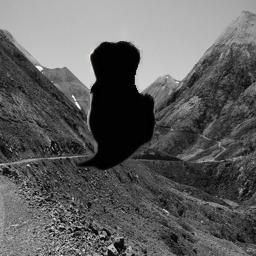Crow: (74, 41, 155, 171)
